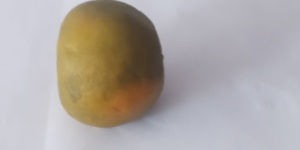BAD: (54, 1, 166, 131)
